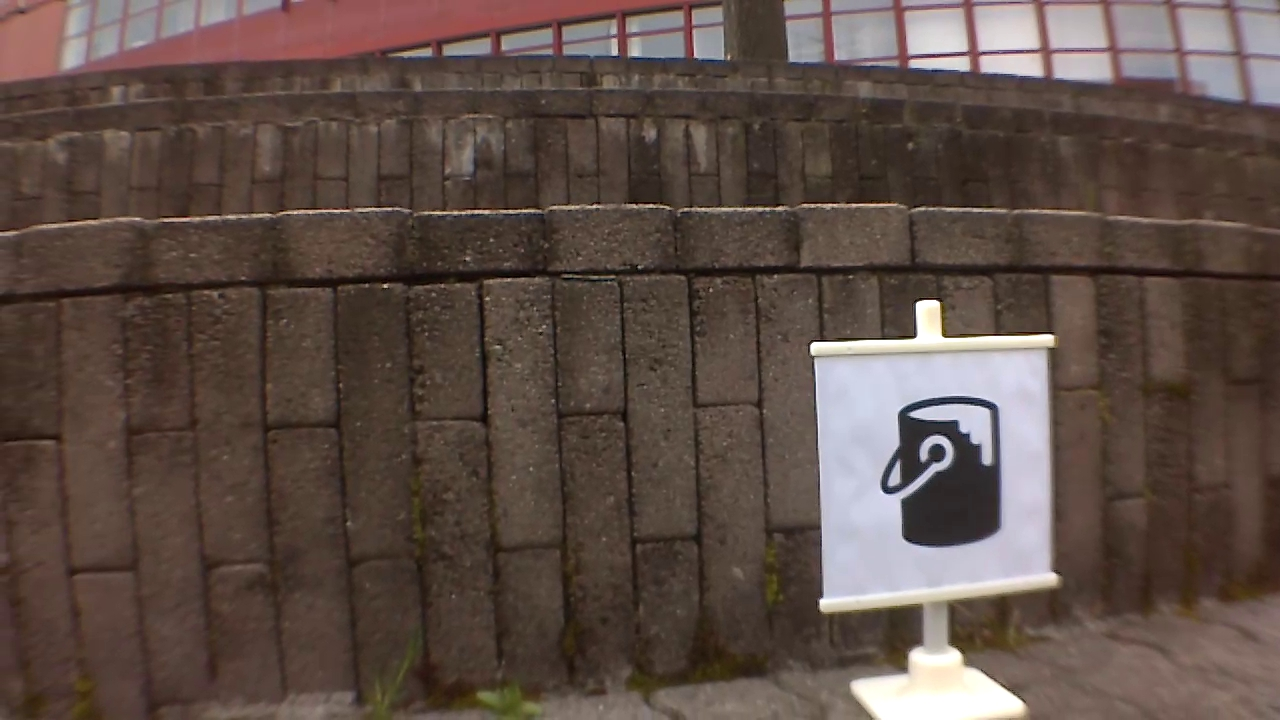bucket: (875, 397, 1004, 551)
